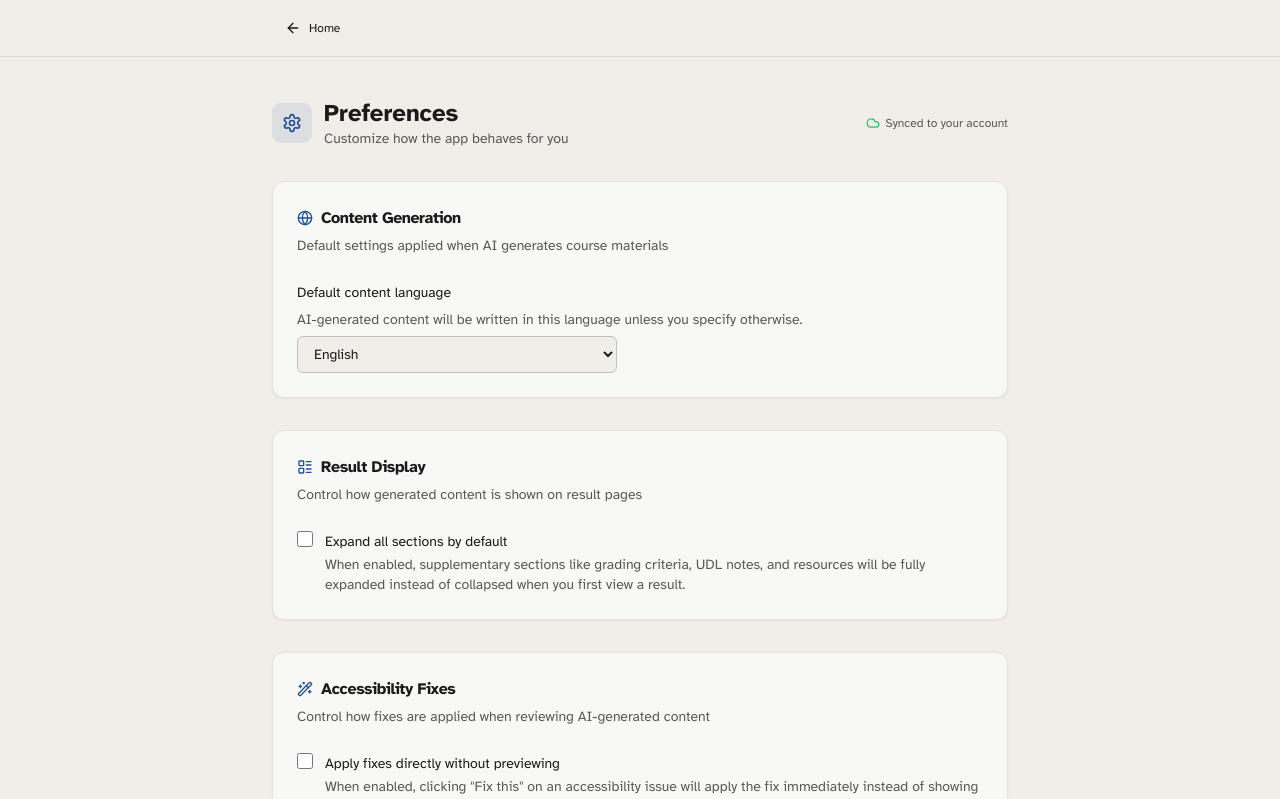
Scenario: Settings page - save-failed indicator dismiss button › shows the retry button on a failed save, then dismisses back to synced state without a new request
Expected: the element with test id "status-sync" is shown, [866,115,1008,131]
Click the checkbox with test id "checkbox-settings-auto-expand": (305, 539) [297,531,313,547]
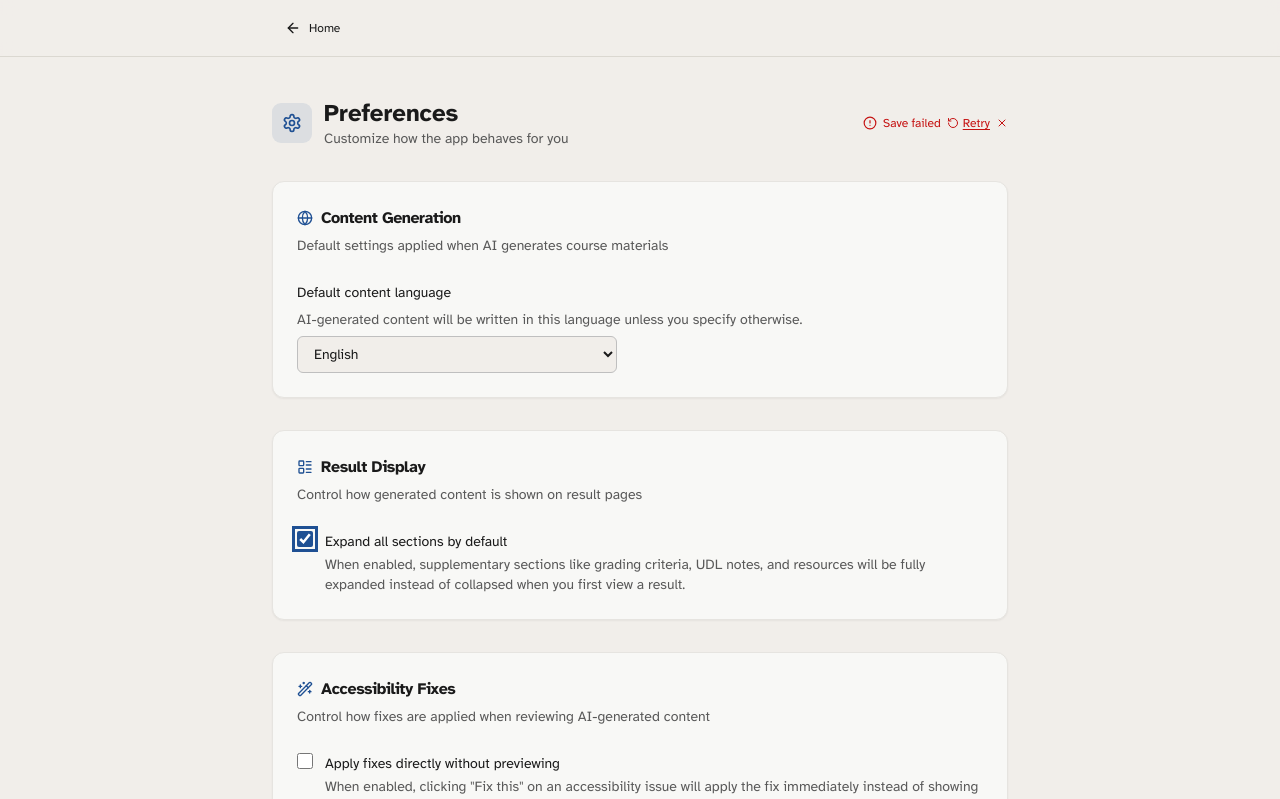
Expected: the text with test id "status-sync-error" reads "Save failed", [883,116,941,130]
Expected: the button with test id "button-retry-save" is shown, [947,115,990,131]
Click the button with test id "button-dismiss-save-error": (1002, 123) [996,117,1008,129]
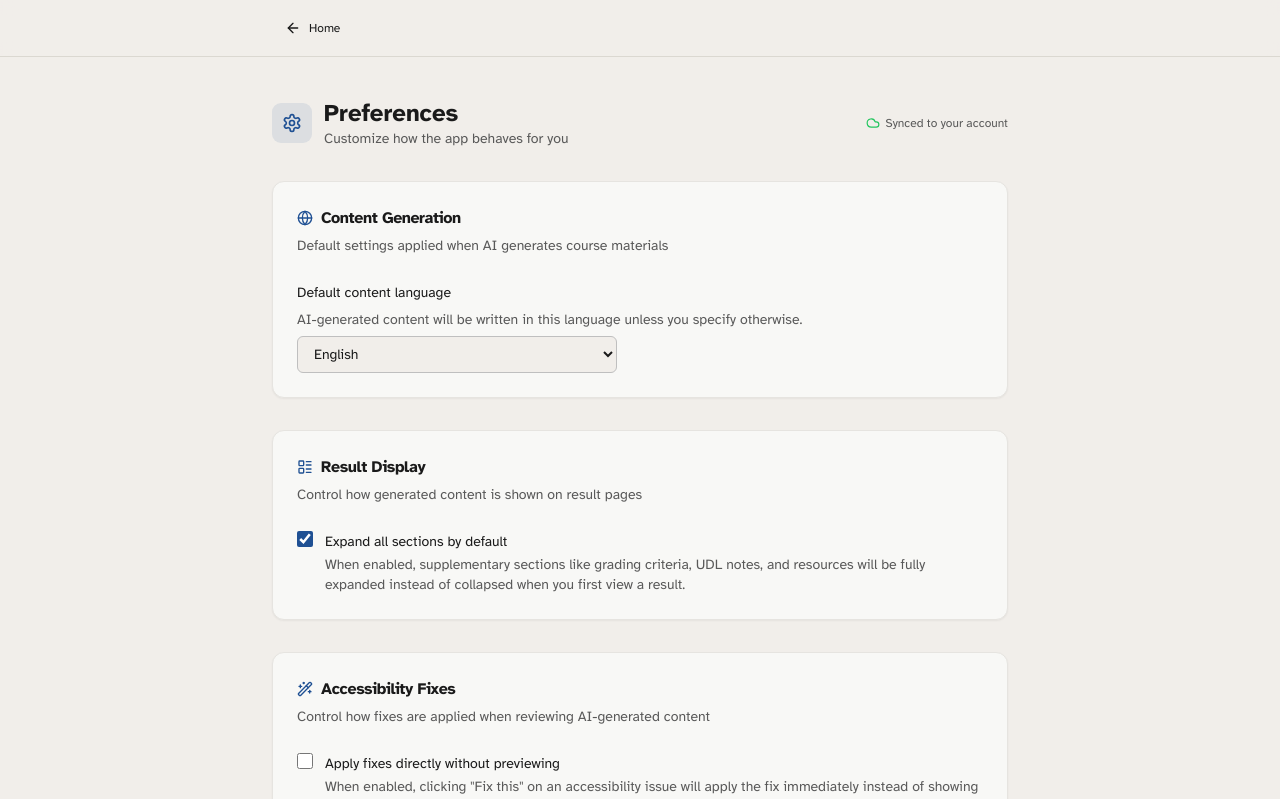
Expected: the text "Synced to your account" is shown, [886,115,1008,131]
Expected: the button with test id "button-retry-save" is gone
Expected: the button with test id "button-dismiss-save-error" is gone
